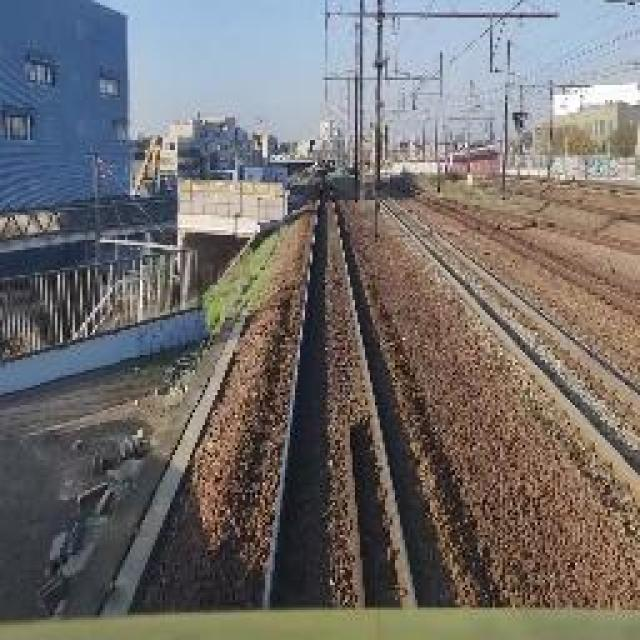rail: (234, 179, 449, 614)
